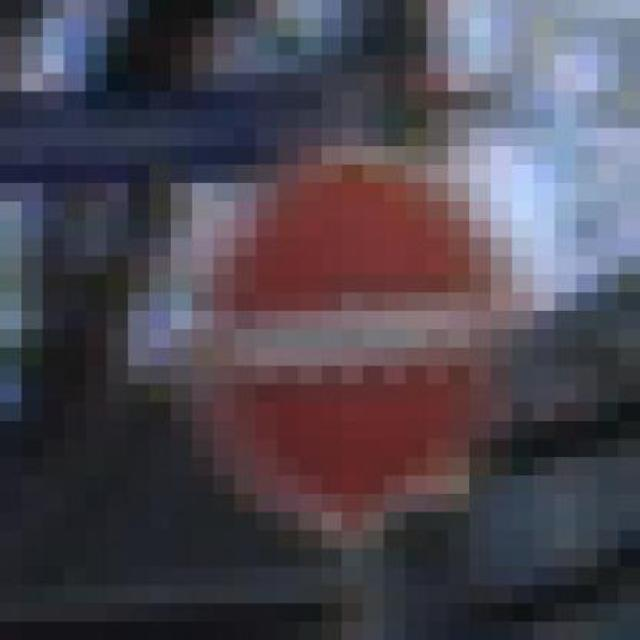B2: (204, 165, 498, 530)
